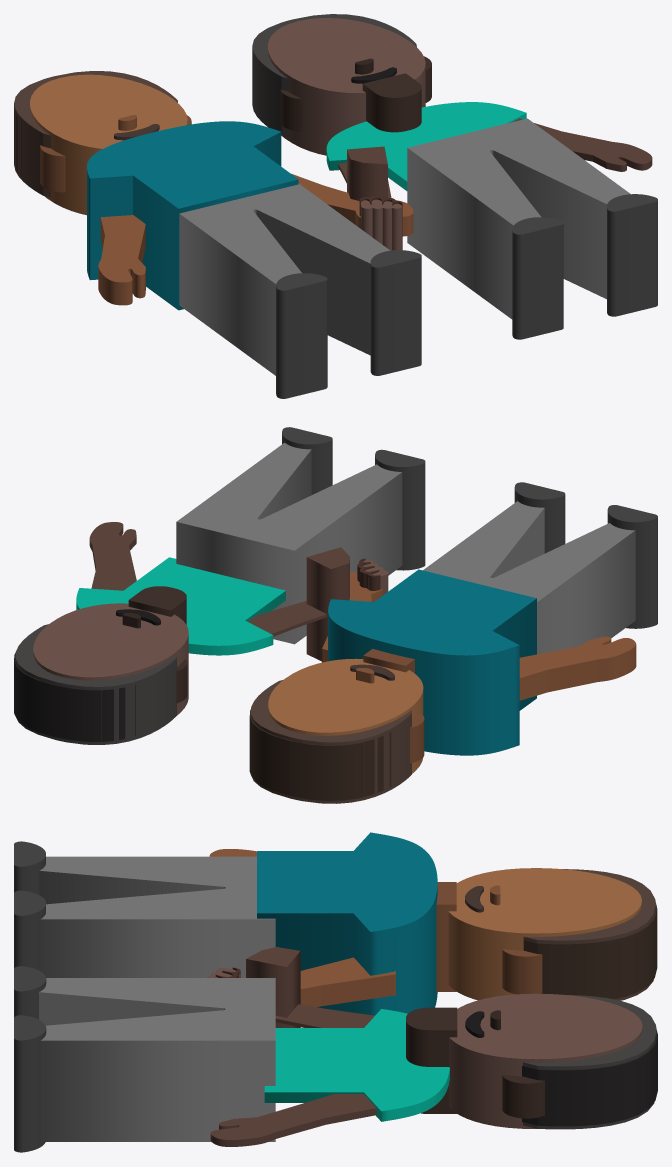
Rendered from emoji_u1f468_1f3fe_200d_1f91d_200d_1f468_1f3ff.glb.
3 renders of one model, top to bottom at view 1: azimuth 30°, elevation 25°; view 2: azimuth 150°, elevation 25°; view 3: azimuth 270°, elevation 25°, orthographic. The views are drawn at different scales.
Visible parts, largest first — view 1: emoji_u1f468_1f3fe_200d_1f91d_200d_1f468_1f3ff; view 2: emoji_u1f468_1f3fe_200d_1f91d_200d_1f468_1f3ff; view 3: emoji_u1f468_1f3fe_200d_1f91d_200d_1f468_1f3ff.
Part boxes in pixels (x1,y1,x2,y2): emoji_u1f468_1f3fe_200d_1f91d_200d_1f468_1f3ff: (14, 14, 657, 398); emoji_u1f468_1f3fe_200d_1f91d_200d_1f468_1f3ff: (14, 427, 657, 803); emoji_u1f468_1f3fe_200d_1f91d_200d_1f468_1f3ff: (14, 832, 657, 1152).
Bounding box in the file's own units: 0.0346 × 0.0066 × 0.0334.
